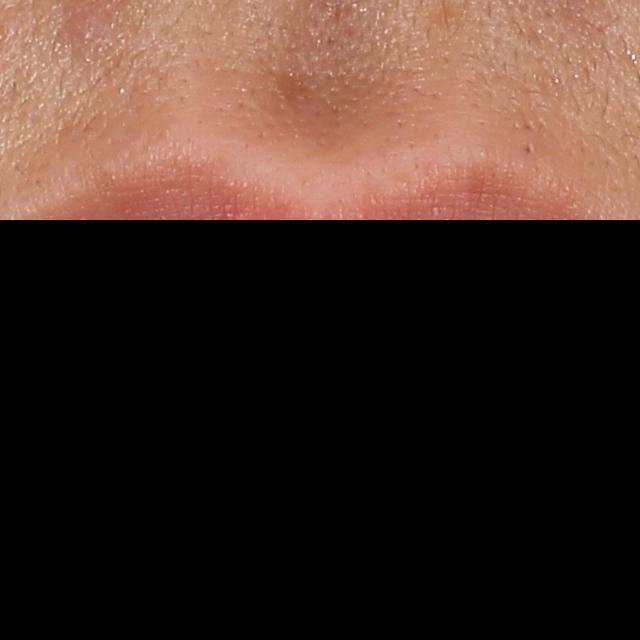comedo: (523, 141, 535, 156)
papule: (71, 9, 104, 43)
